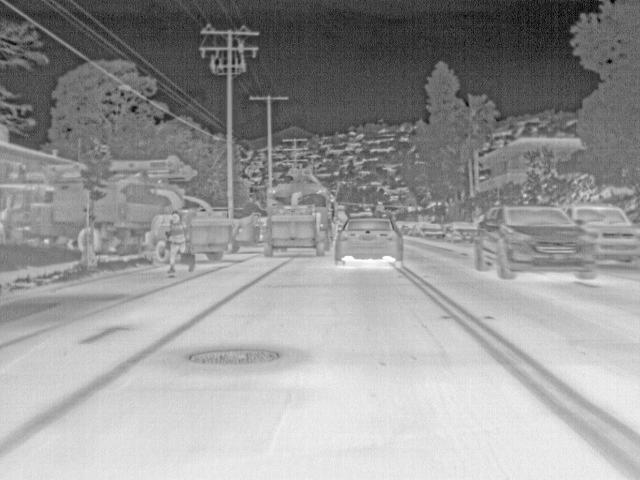car: (477, 206, 596, 282), (563, 204, 640, 268), (335, 215, 403, 267), (444, 221, 476, 243), (419, 221, 443, 238), (394, 220, 411, 236), (406, 222, 424, 236)
person: (166, 211, 191, 275)
